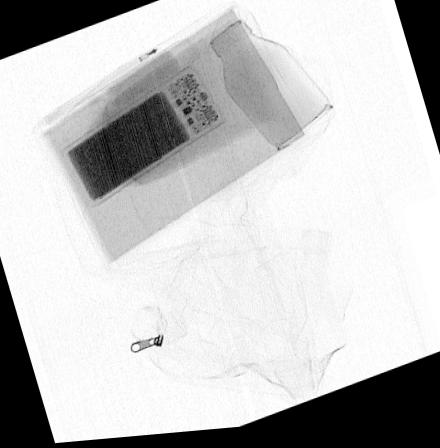Powerbank: (59, 70, 226, 206)
